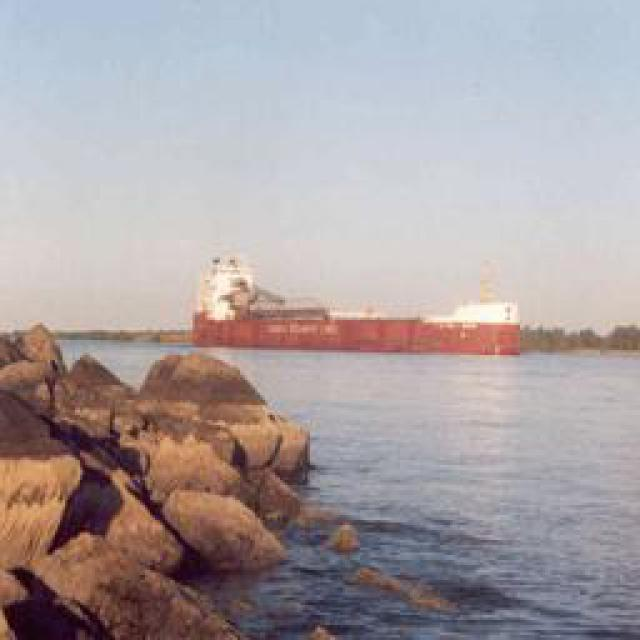Ship: (152, 272, 515, 355)
